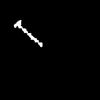half_double_crochet: (14, 20, 41, 46)
